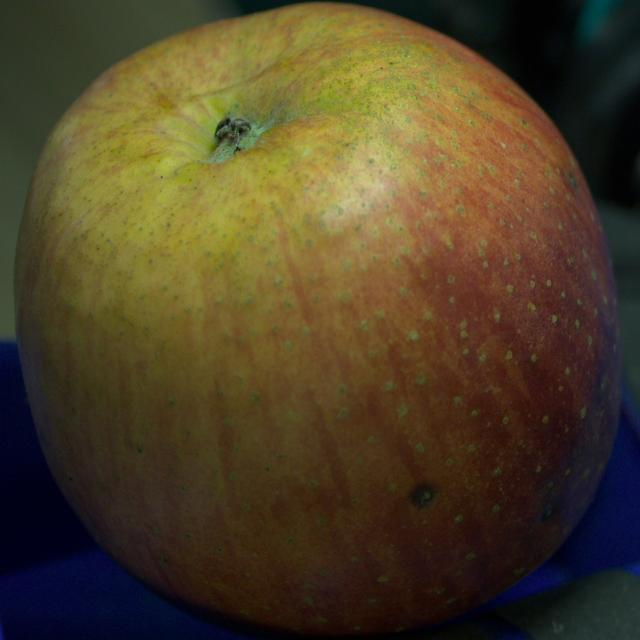apple: (14, 4, 621, 635)
pest: (410, 484, 436, 509), (541, 504, 556, 521), (569, 174, 576, 188)
